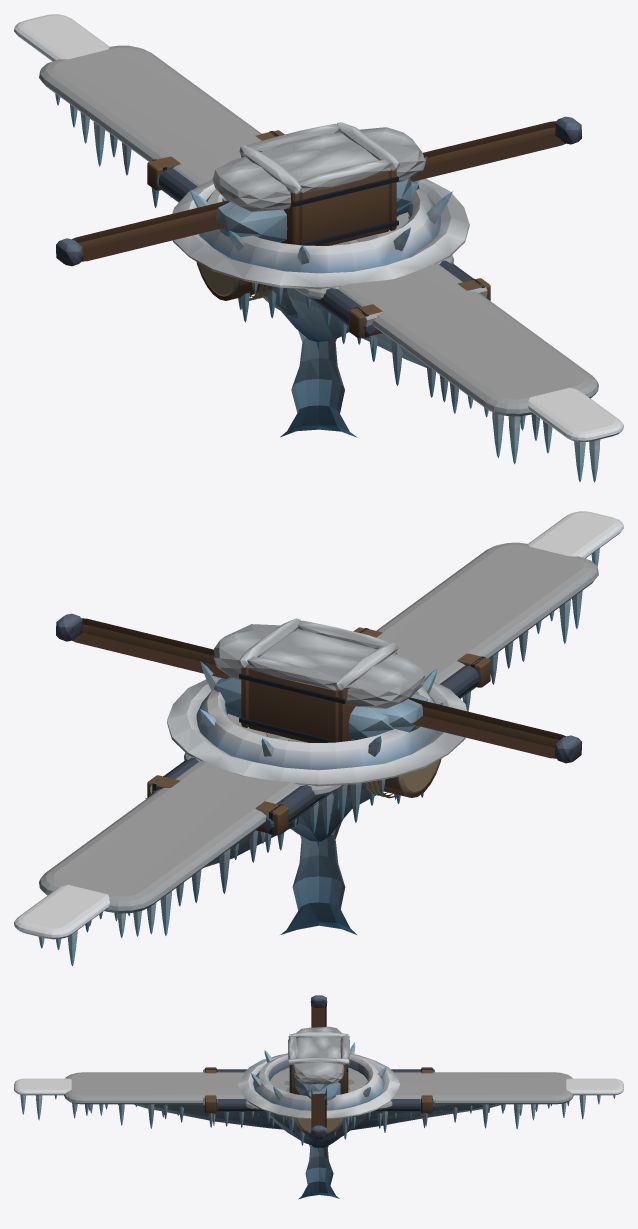
File: glacier-4-zQqBme6I.glb
3 views of the same model, one above another, from view 1: azimuth 30°, elevation 25°; view 2: azimuth 150°, elevation 25°; view 3: azimuth 270°, elevation 25° (orthographic). The views are drawn at different scales.
Parts seen in each view (by area): view 1: block_5x2x40#0, geyserVent_8#0, hopper_3.6x3#0, spout_7x2#0, mount_12.2#0, block_2.5x2x48_grate#0, support_1_round#0, belt_6.5x1.5x18x1#0, block_7x2x12#0, beam_10x2x4#0, block_10x2x6#0; view 2: block_5x2x40#0, geyserVent_8#0, spout_7x2#0, hopper_3.6x3#0, mount_12.2#0, block_2.5x2x48_grate#0, support_1_round#0, belt_6.5x1.5x18x1#0, block_7x2x12#0, beam_10x2x4#0, block_10x2x6#0; view 3: block_5x2x40#0, geyserVent_8#0, spout_7x2#0, block_2.5x2x48_grate#0, belt_6.5x1.5x18x1#0, hopper_3.6x3#0, mount_12.2#0, support_1_round#0, block_7x2x12#0, beam_10x2x4#0, block_7x2x10_ice#0.
Boxes of the visible parts, x1=… form: block_5x2x40#0: x1=39, y1=45, x2=598, y2=464; geyserVent_8#0: x1=172, y1=156, x2=469, y2=289; hopper_3.6x3#0: x1=239, y1=122, x2=399, y2=245; spout_7x2#0: x1=212, y1=127, x2=425, y2=242; mount_12.2#0: x1=56, y1=116, x2=581, y2=266; block_2.5x2x48_grate#0: x1=14, y1=14, x2=623, y2=482; support_1_round#0: x1=280, y1=331, x2=357, y2=437; belt_6.5x1.5x18x1#0: x1=147, y1=130, x2=490, y2=350; block_7x2x12#0: x1=281, y1=255, x2=453, y2=341; beam_10x2x4#0: x1=196, y1=262, x2=273, y2=300; block_10x2x6#0: x1=238, y1=215, x2=409, y2=318; block_5x2x40#0: x1=39, y1=542, x2=598, y2=937; geyserVent_8#0: x1=167, y1=661, x2=466, y2=786; spout_7x2#0: x1=213, y1=624, x2=427, y2=740; hopper_3.6x3#0: x1=238, y1=618, x2=398, y2=742; mount_12.2#0: x1=56, y1=613, x2=581, y2=763; block_2.5x2x48_grate#0: x1=14, y1=511, x2=623, y2=966; support_1_round#0: x1=280, y1=821, x2=356, y2=934; belt_6.5x1.5x18x1#0: x1=145, y1=627, x2=490, y2=843; block_7x2x12#0: x1=184, y1=753, x2=350, y2=841; beam_10x2x4#0: x1=364, y1=758, x2=441, y2=799; block_10x2x6#0: x1=228, y1=713, x2=400, y2=822; block_5x2x40#0: x1=64, y1=1072, x2=573, y2=1130; geyserVent_8#0: x1=238, y1=1042, x2=400, y2=1119; spout_7x2#0: x1=292, y1=1026, x2=344, y2=1100; block_2.5x2x48_grate#0: x1=14, y1=1078, x2=623, y2=1120; belt_6.5x1.5x18x1#0: x1=203, y1=1067, x2=435, y2=1126; hopper_3.6x3#0: x1=288, y1=1032, x2=349, y2=1094; mount_12.2#0: x1=310, y1=995, x2=327, y2=1139; support_1_round#0: x1=298, y1=1144, x2=339, y2=1199; block_7x2x12#0: x1=244, y1=1070, x2=393, y2=1147; beam_10x2x4#0: x1=293, y1=1117, x2=345, y2=1135; block_7x2x10_ice#0: x1=277, y1=1068, x2=360, y2=1147.
Bounding box in the file's own units: 25.3 × 13.91 × 48.22.
